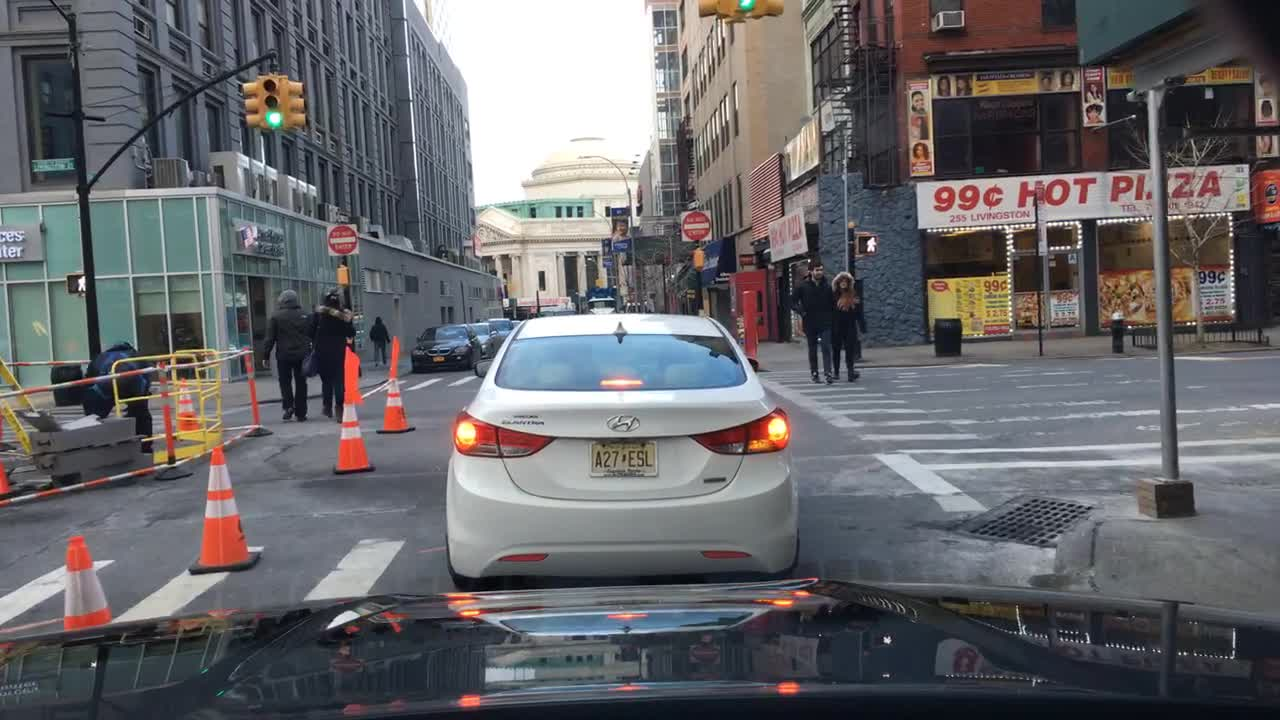car: (444, 311, 800, 590), (410, 323, 482, 372), (462, 321, 498, 360), (485, 316, 512, 341), (587, 297, 619, 315), (537, 308, 576, 316), (511, 318, 520, 328)
person: (80, 341, 153, 455), (303, 286, 358, 424), (260, 286, 312, 421), (788, 260, 835, 386), (829, 270, 867, 381), (367, 315, 391, 367)
traffic light: (257, 74, 287, 132), (286, 80, 309, 130), (241, 78, 261, 131), (852, 228, 879, 257), (695, 1, 731, 18), (65, 270, 86, 296), (760, 1, 784, 20), (691, 246, 707, 270), (732, 1, 757, 16), (336, 265, 351, 284)
traffic sign: (678, 210, 714, 241), (325, 224, 360, 255), (30, 156, 75, 172)
